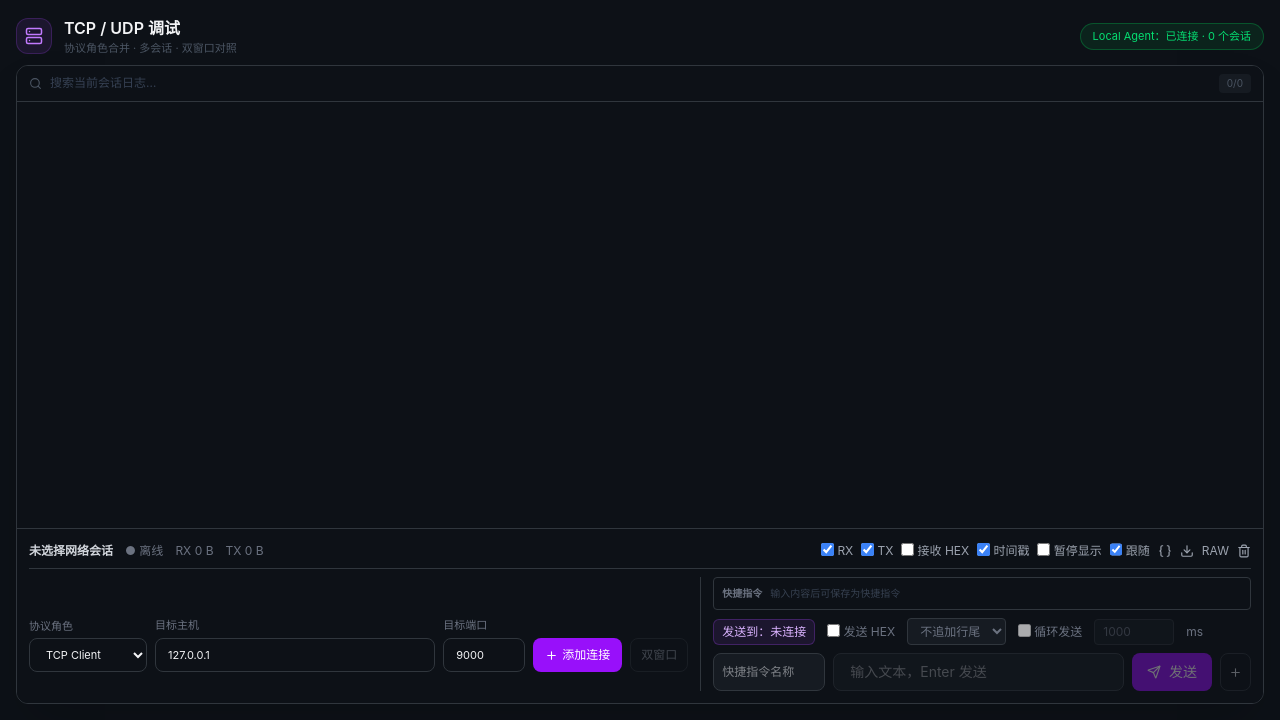
Test: AgentNetworkDebugger independent workflow › shows structured service errors without losing the configured endpoint
Click the button "添加连接": (578, 655) [533, 638, 622, 672]
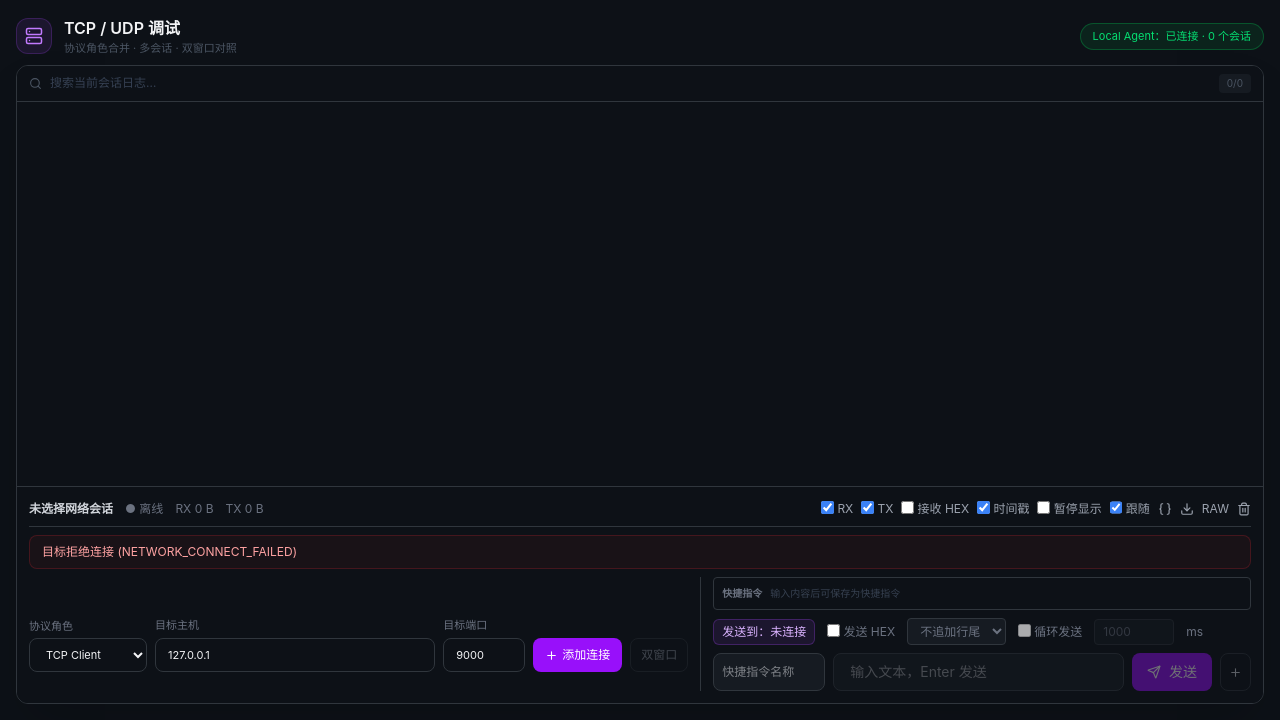
Check: the field showing "127.0.0.1" is shown, box [155, 638, 435, 672]
Check: the text "目标拒绝连接 (NETWORK_CONNECT_FAILED)" is shown, box [29, 535, 1251, 569]
